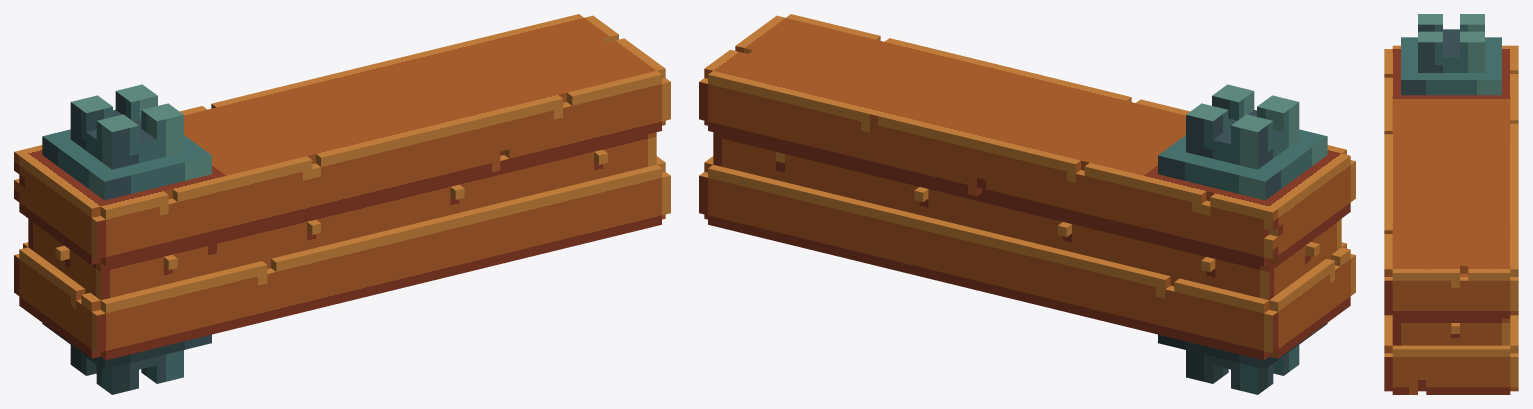
File: rotato_longao.fezao.glb
The picture shows the model from 3 angles, left to right: view 1: azimuth 30°, elevation 25°; view 2: azimuth 150°, elevation 25°; view 3: azimuth 270°, elevation 25°; orthographic projection. The views are drawn at different scales.
Visible parts, largest first — view 1: ROTATO_LONGAO; view 2: ROTATO_LONGAO; view 3: ROTATO_LONGAO.
Part boxes in pixels (bbox=[...]): ROTATO_LONGAO: bbox=[14, 14, 670, 394]; ROTATO_LONGAO: bbox=[699, 14, 1355, 394]; ROTATO_LONGAO: bbox=[1384, 14, 1518, 394].
Bounding box in the file's own units: 4 × 1.75 × 1.
1 material, 1 textured.
